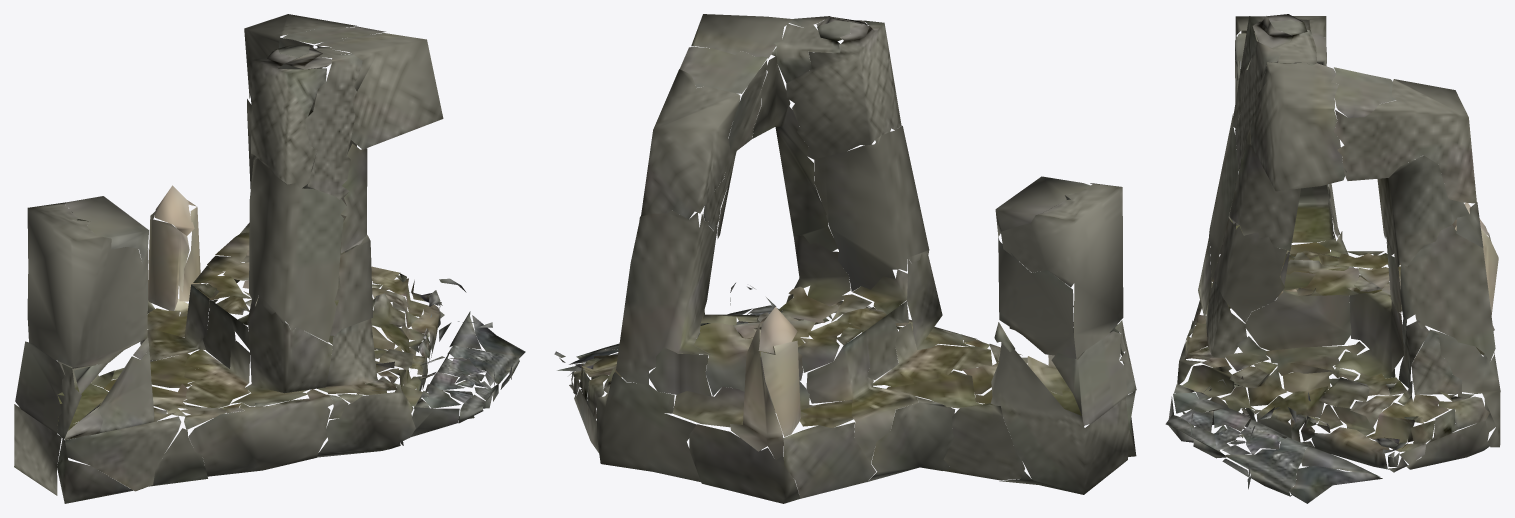
Rendered from preview.glb.
3 renders of one model, left to right at view 1: azimuth 30°, elevation 25°; view 2: azimuth 150°, elevation 25°; view 3: azimuth 270°, elevation 25°, orthographic. The views are drawn at different scales.
Visible parts, largest first — view 1: cctv/tripo_node_5336d25a-34ea-4a08-8202-84b8539ae1af; view 2: cctv/tripo_node_5336d25a-34ea-4a08-8202-84b8539ae1af; view 3: cctv/tripo_node_5336d25a-34ea-4a08-8202-84b8539ae1af.
Boxes of the visible parts, <box> form: cctv/tripo_node_5336d25a-34ea-4a08-8202-84b8539ae1af: <box>14,14,525,503</box>; cctv/tripo_node_5336d25a-34ea-4a08-8202-84b8539ae1af: <box>554,14,1136,503</box>; cctv/tripo_node_5336d25a-34ea-4a08-8202-84b8539ae1af: <box>1165,14,1500,503</box>.
Size of the model in its own units: 3.23 by 2.32 by 1.9.
Materials: 1 (1 with a texture image).
